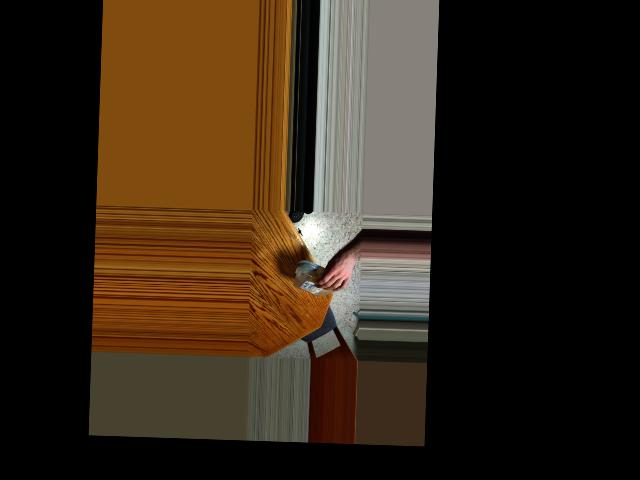cheese: (296, 262, 336, 297)
